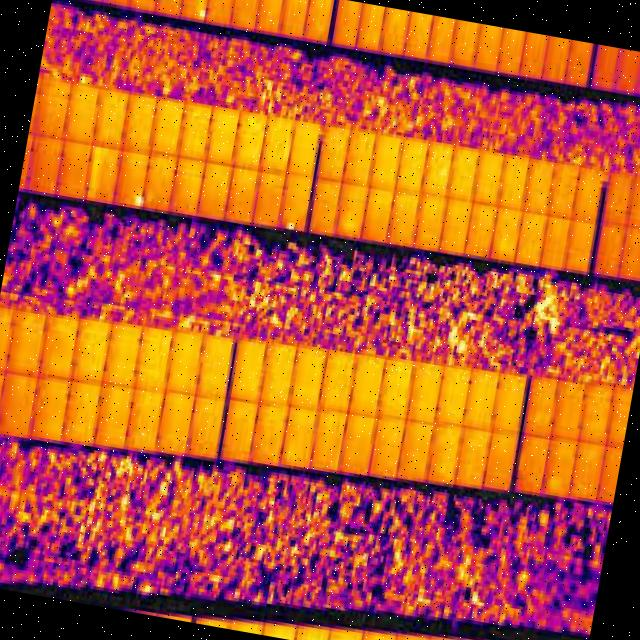Hotspot: (196, 6, 206, 20), (132, 195, 144, 206), (284, 218, 294, 230)
